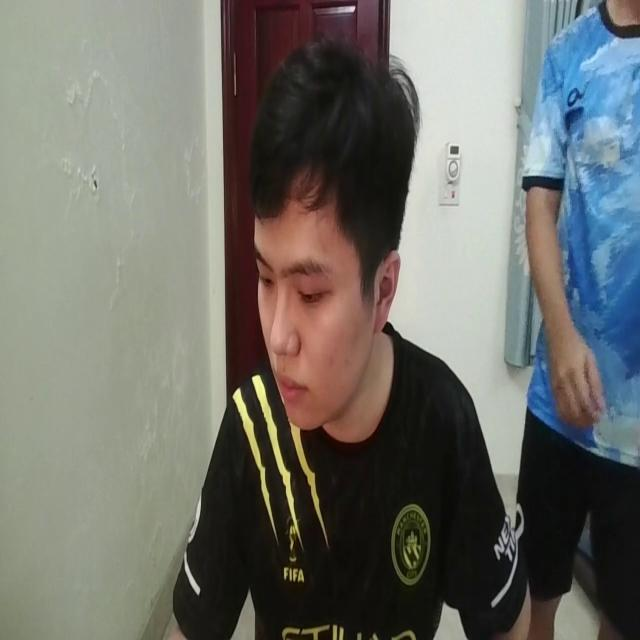extra_person: (516, 0, 640, 640)
student: (151, 39, 532, 640)
